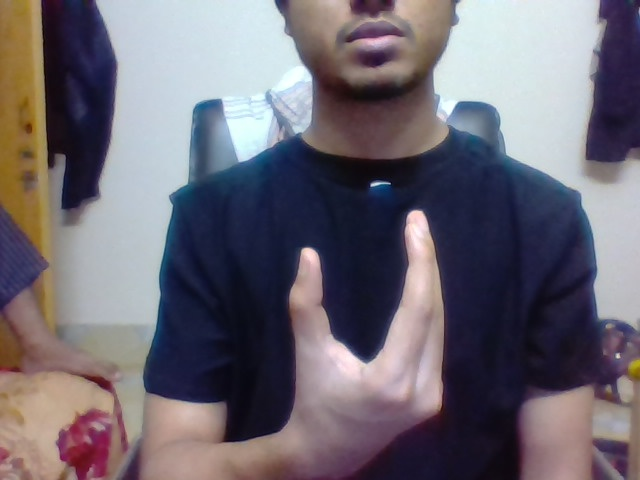U: (278, 202, 457, 393)
